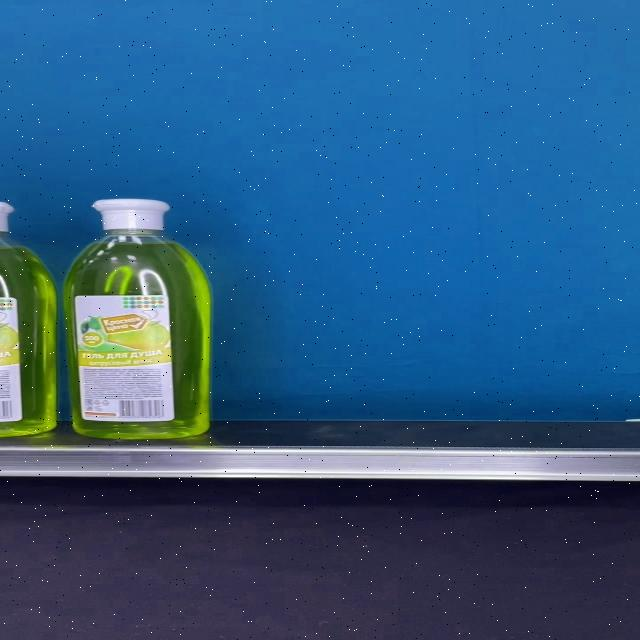Bottle: (63, 199, 211, 438)
Cap: (92, 199, 170, 231)
